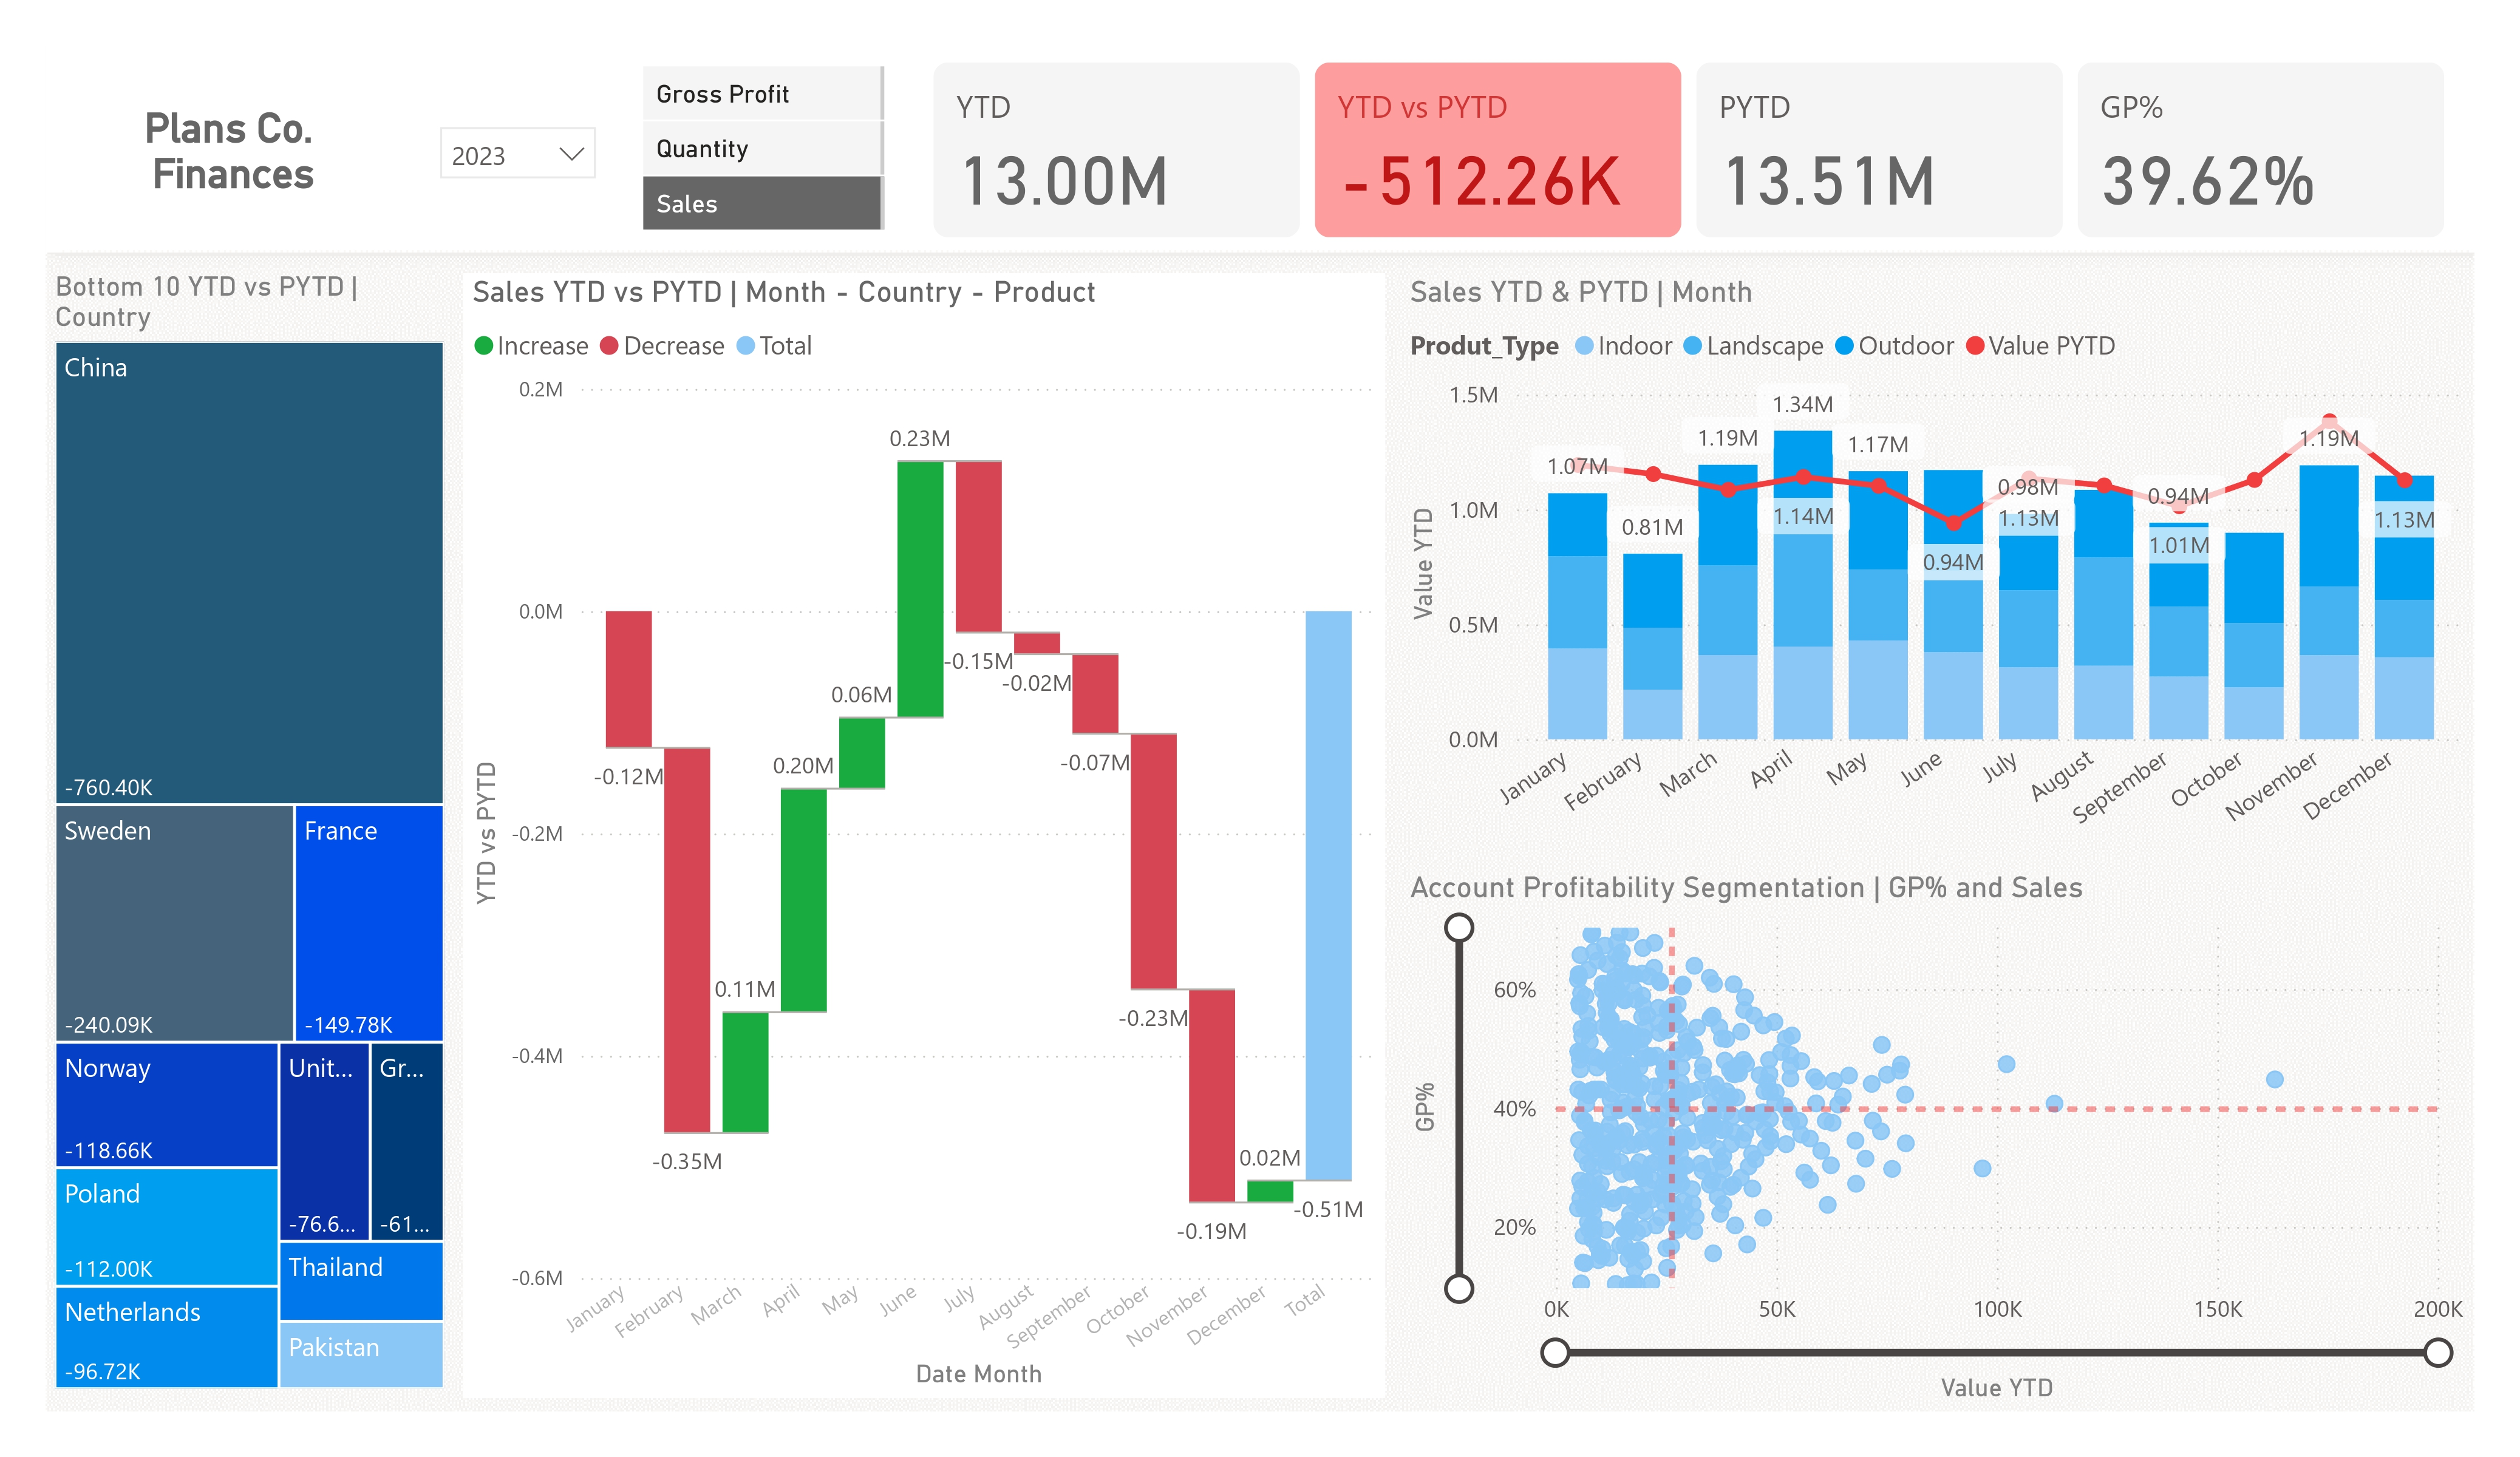

This screenshot's page, from the dashboard's own definition file:
{"tool":"powerbi","page":{"name":"Performance Report","canvas":[1280,720],"ordinal":0},"visuals":[{"type":"cardVisual","fields":{"Data":["_Measures.S_YTD","_Measures.YTD vs PYTD","_Measures.S_PYTD","_Measures.GP%"]},"box":[463,4.2,806.2,102.1],"z":0},{"type":"advancedSlicerVisual","fields":{"Values":["Slc_Values.Values"]},"box":[309.8,5.9,137.3,98],"z":1000},{"type":"slicer","fields":{"Values":["Dim_Date.Date.Variation.Date Hierarchy.Year"]},"box":[198.4,32.7,101.3,50.2],"z":2000},{"type":"treemap","title":"Bottom 10 YTD vs PYTD | Country","fields":{"Values":["_Measures.YTD vs PYTD"],"Group":["Dim_Account.country"]},"box":[0,118.7,214.6,594.4],"z":3000},{"type":"waterfallChart","fields":{"Y":["_Measures.YTD vs PYTD"],"Category":["Dim_Date.Date.Variation.Date Hierarchy.Month","Dim_Account.country","Dim_Product.Produt_Type","Dim_Product.Product_Name"]},"box":[220.3,119.6,485.2,593.5],"z":4000},{"type":"lineStackedColumnComboChart","fields":{"Y":["_Measures.S_YTD"],"Y2":["_Measures.S_PYTD"],"Category":["Dim_Date.Date.Variation.Date Hierarchy.Quarter","Dim_Date.Date.Variation.Date Hierarchy.Month"],"Series":["Dim_Product.Produt_Type"]},"box":[714.1,119.6,565.9,314.3],"z":5000},{"type":"scatterChart","fields":{"Y":["_Measures.GP%"],"X":["_Measures.S_YTD"],"Category":["Dim_Account.Account"]},"box":[714.1,433.9,565.9,285.8],"z":6000},{"type":"card","fields":{"Values":["_Measures.Report Title"]},"box":[0,20.9,198.5,68.4],"z":7000}]}

Visuals, with their boxes on the page's 1280x720 design canvas (x1, y1, x2, y2). These are canvas units, not pixel positions in the 2520x1457 screenshot, which may show the page scaled, cropped or inside an application window:
cardVisual - _Measures.S_YTD x _Measures.YTD vs PYTD: locate(463, 4, 1269, 106)
advancedSlicerVisual - Slc_Values.Values: locate(310, 6, 447, 104)
slicer - Dim_Date.Date.Variation.Date Hierarchy.Year: locate(198, 33, 300, 83)
"Bottom 10 YTD vs PYTD | Country" treemap: locate(0, 119, 215, 713)
waterfallChart - _Measures.YTD vs PYTD x Dim_Date.Date.Variation.Date Hierarchy.Month: locate(220, 120, 706, 713)
lineStackedColumnComboChart - _Measures.S_YTD x _Measures.S_PYTD: locate(714, 120, 1280, 434)
scatterChart - _Measures.GP% x _Measures.S_YTD: locate(714, 434, 1280, 720)
card - _Measures.Report Title: locate(0, 21, 198, 89)
